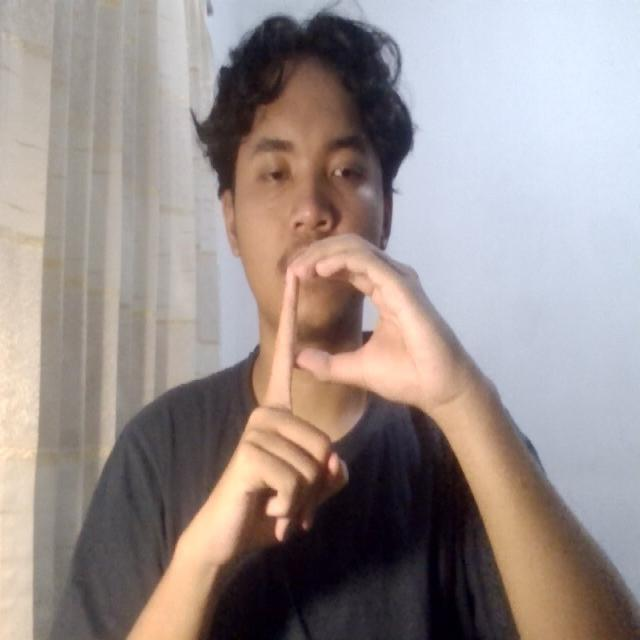D: (203, 222, 453, 570)
